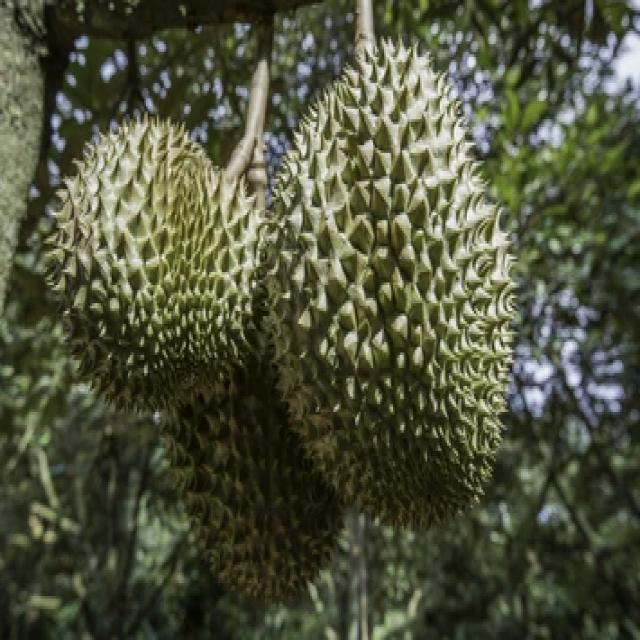immature: (260, 36, 516, 528), (42, 108, 279, 408)
